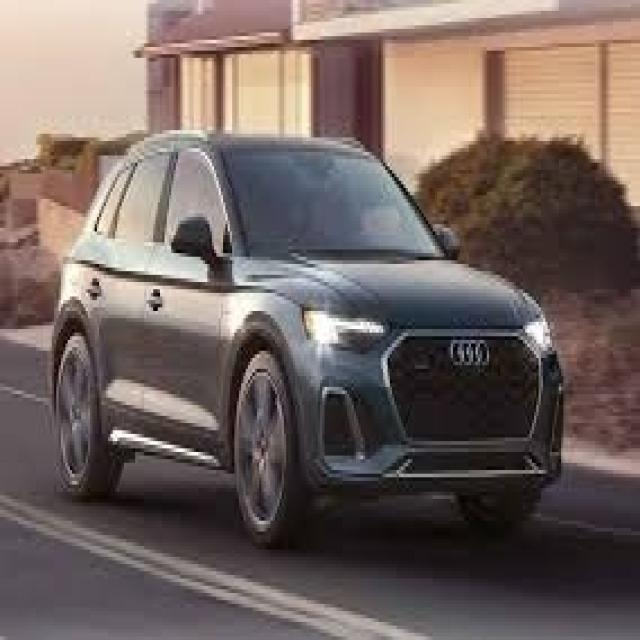black: (48, 130, 570, 568)
